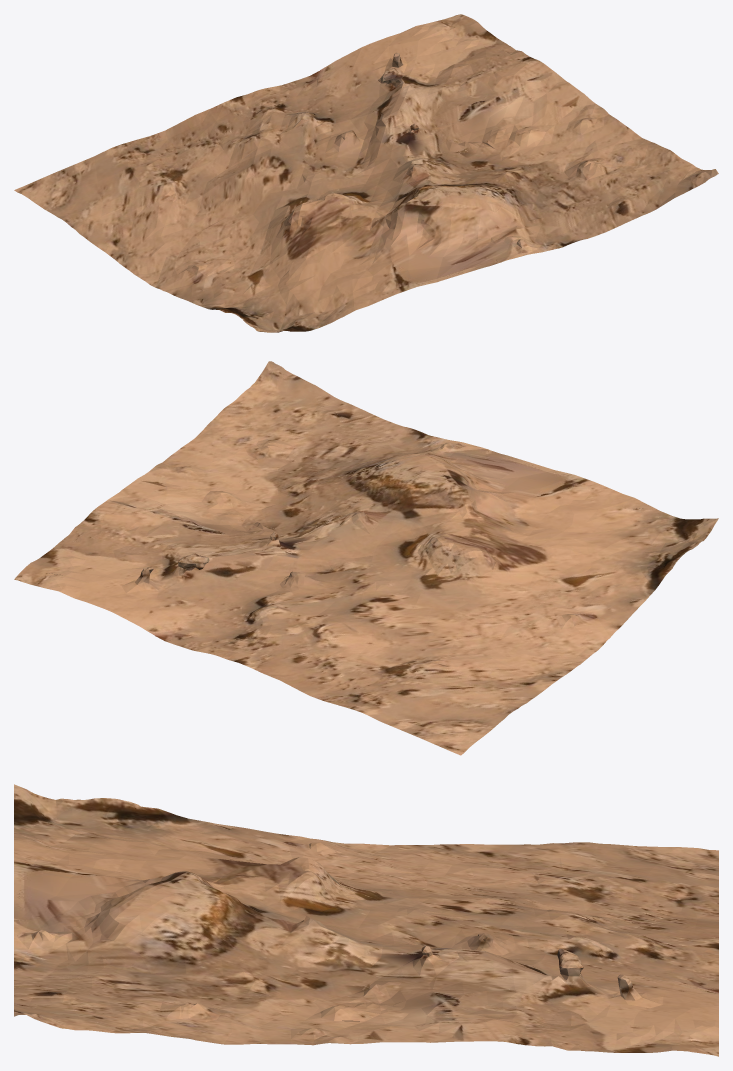
3 renders of one model, top to bottom at view 1: azimuth 30°, elevation 25°; view 2: azimuth 150°, elevation 25°; view 3: azimuth 270°, elevation 25°, orthographic. The views are drawn at different scales.
Size of the model in its own units: 2.09 by 0.4405 by 2.09.
Materials: 2 (2 with a texture image).
